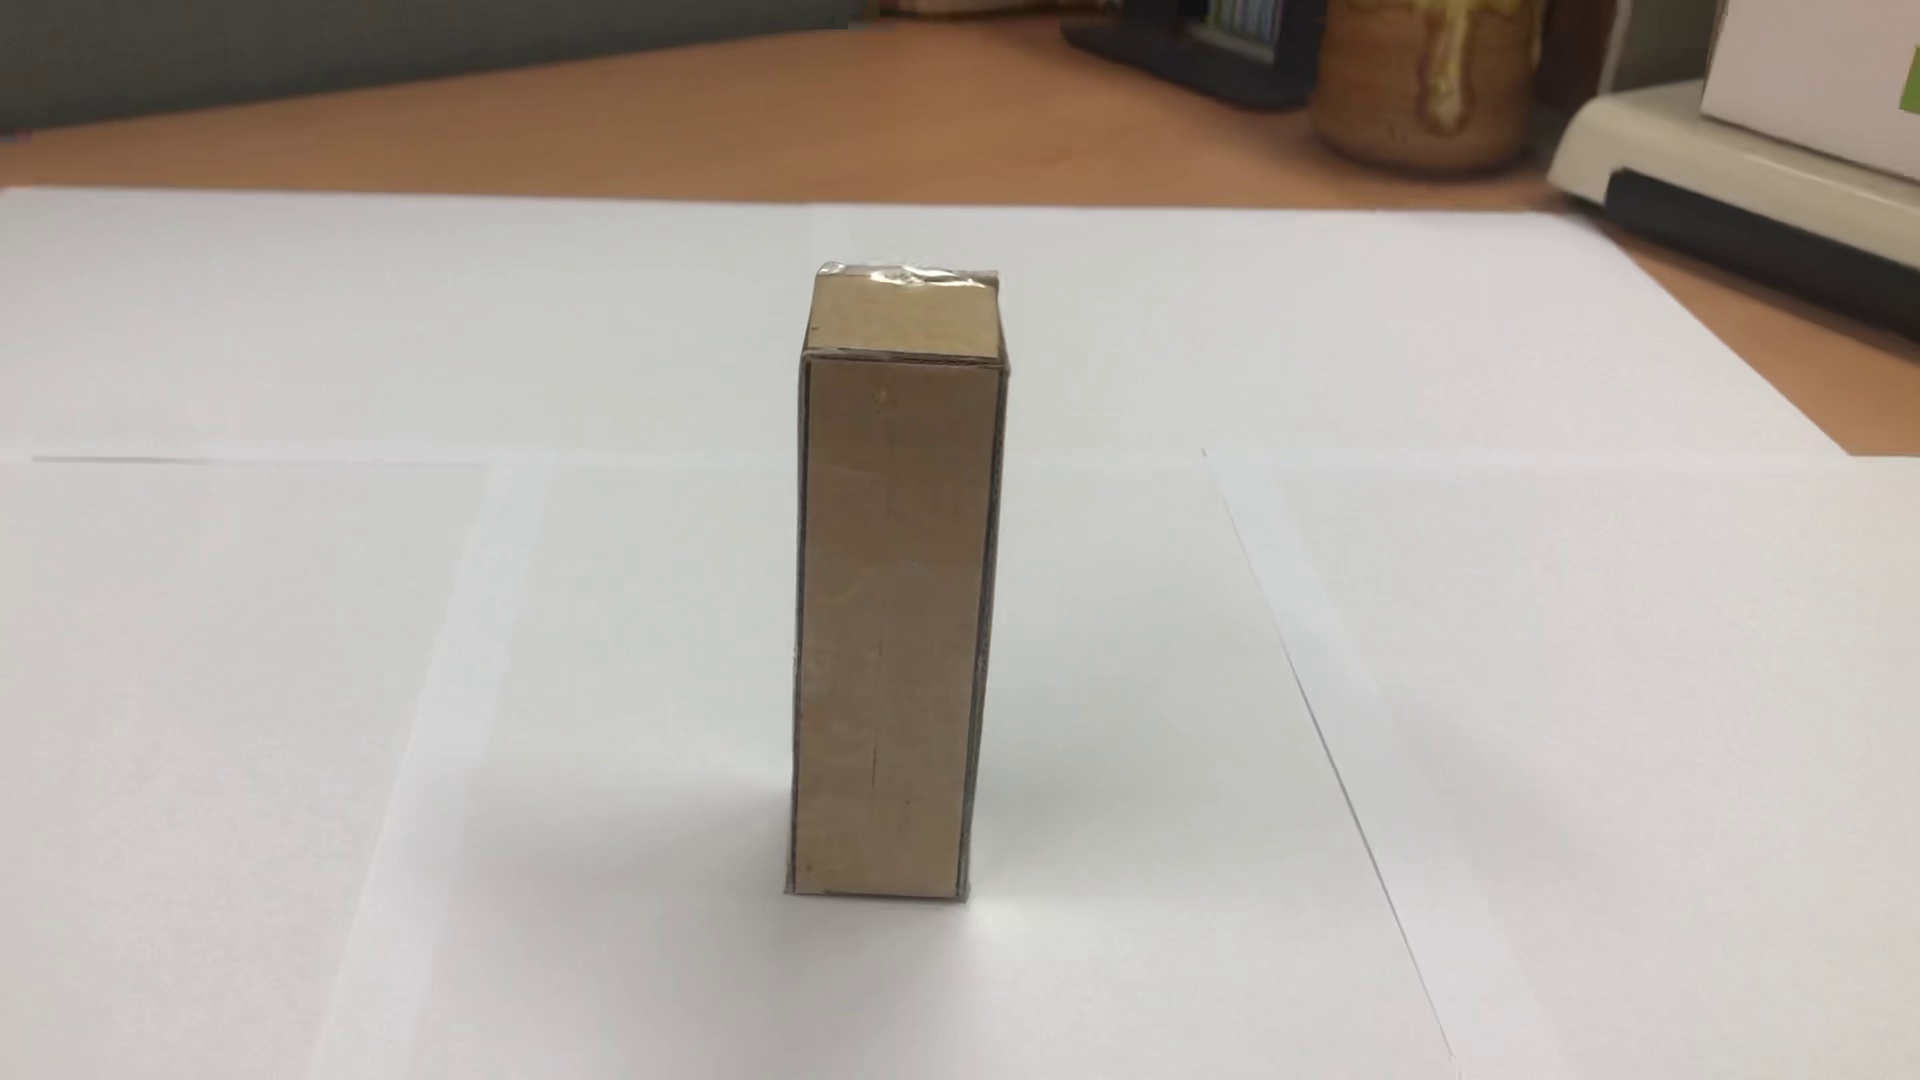box: (738, 248, 1051, 927)
